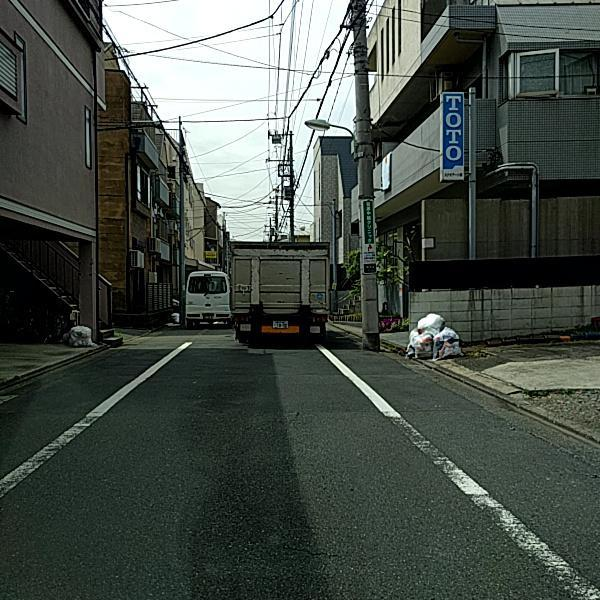D10: (264, 539, 347, 561)
